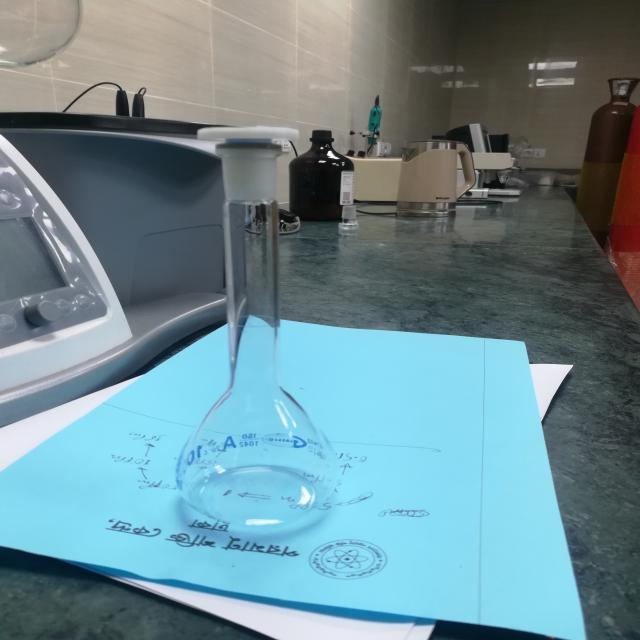Volumetric_Flask: (145, 99, 380, 570)
